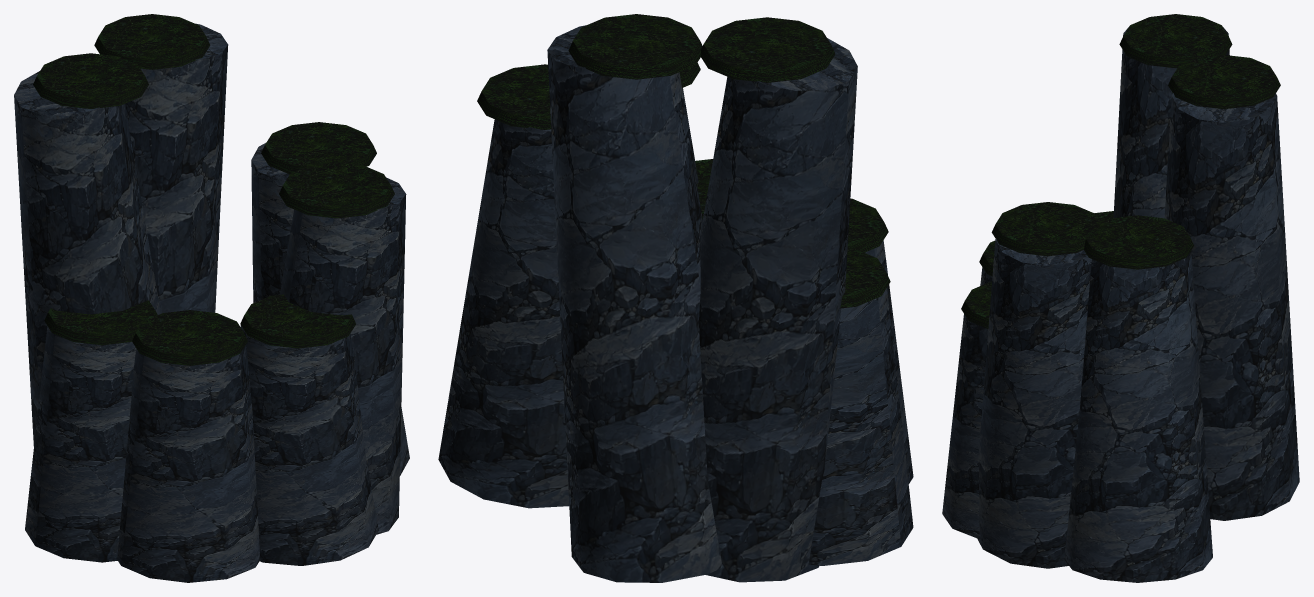
Rendered from basalt-stack.glb.
3 views of the same model, side by side, from view 1: azimuth 30°, elevation 25°; view 2: azimuth 150°, elevation 25°; view 3: azimuth 270°, elevation 25° (orthographic). The views are drawn at different scales.
Parts seen in each view (by area): view 1: basalt-stack-rock, basalt-stack-moss; view 2: basalt-stack-rock, basalt-stack-moss; view 3: basalt-stack-rock, basalt-stack-moss.
Boxes of the visible parts, left/top/right/bottom form: basalt-stack-rock: left=14, top=23, right=409, bottom=582; basalt-stack-moss: left=33, top=14, right=394, bottom=365; basalt-stack-rock: left=438, top=25, right=913, bottom=582; basalt-stack-moss: left=477, top=14, right=890, bottom=308; basalt-stack-rock: left=942, top=26, right=1299, bottom=582; basalt-stack-moss: left=961, top=14, right=1280, bottom=328.
Size of the model in its own units: 5.57 by 6.19 by 4.75.
2 materials, 2 textured.
